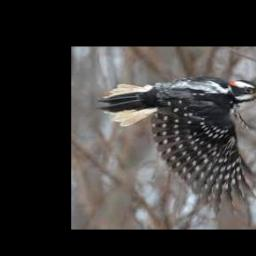Woodpecker: (98, 75, 256, 212)
